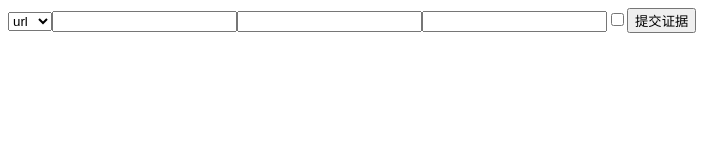
it: EvidencePanel › 409 重放耗尽 → LedgerConflict 冲突提示（当前版本）
Type "c" into the field with test id "ev-claim" at (514, 22), box [422, 11, 607, 32]
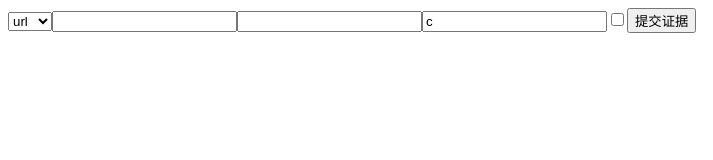
Click the button with test id "ev-submit" at (662, 20), box [627, 8, 696, 33]
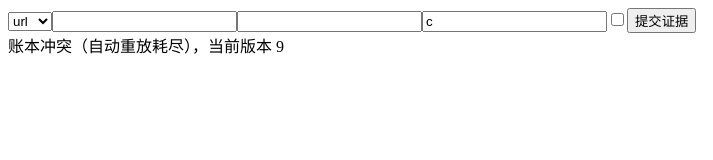
Expected: the text with test id "ev-conflict" shows "9", [8, 38, 284, 55]
